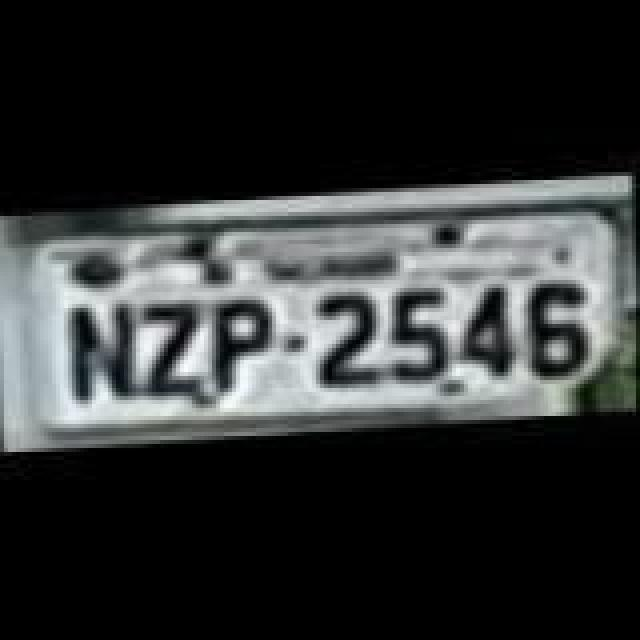2: (314, 290, 386, 390)
4: (460, 280, 528, 380)
5: (388, 284, 456, 388)
6: (524, 286, 592, 390)
N: (70, 294, 142, 406)
P: (206, 296, 278, 404)
Z: (134, 300, 206, 408)
